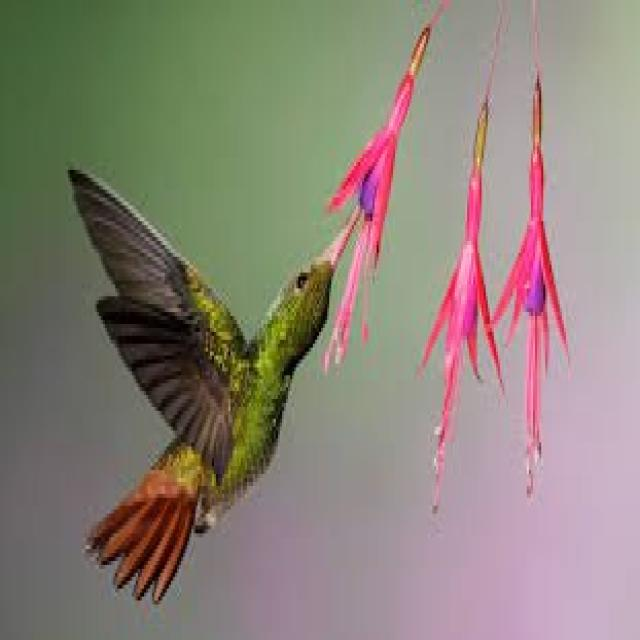Humming Bird: (68, 163, 364, 605)
